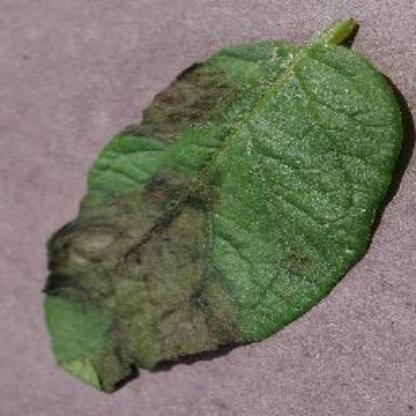Late-Blight: (39, 19, 415, 393)
